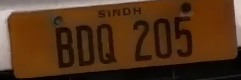BDQ205: (3, 1, 239, 80)
